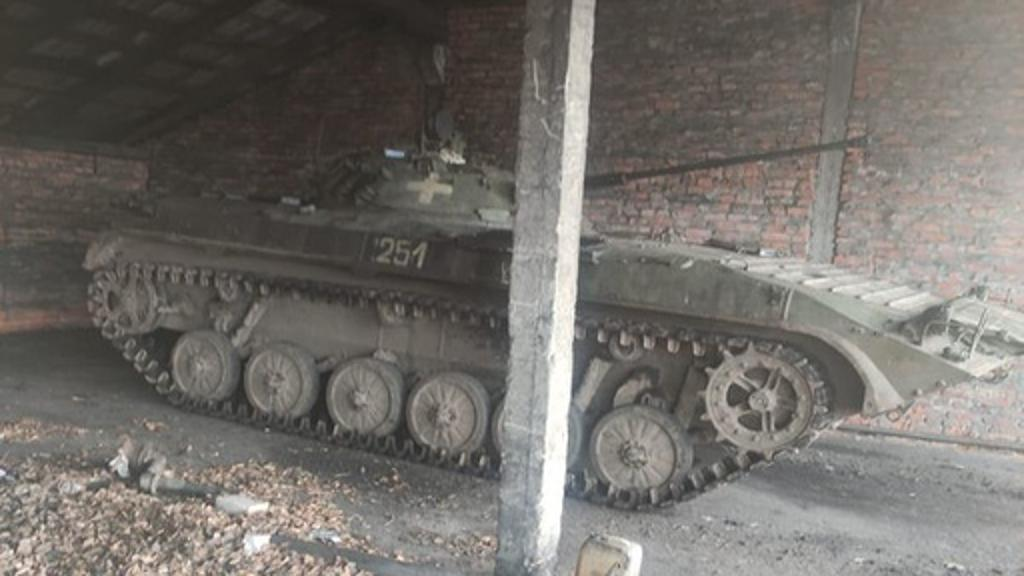APC-IFV: (88, 120, 1006, 530)
